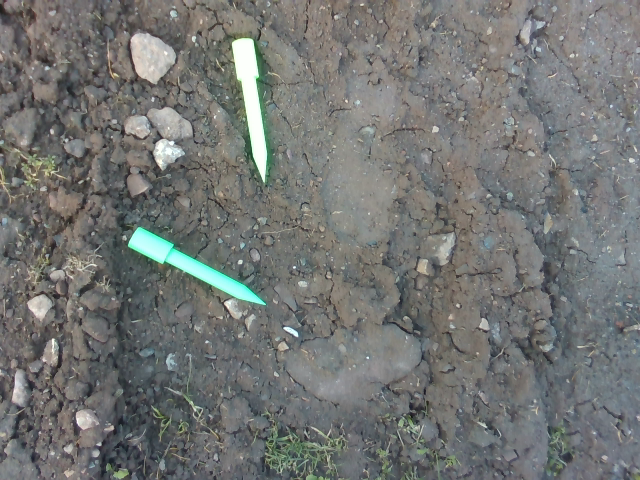Probe: (124, 223, 271, 308), (227, 34, 280, 190)
